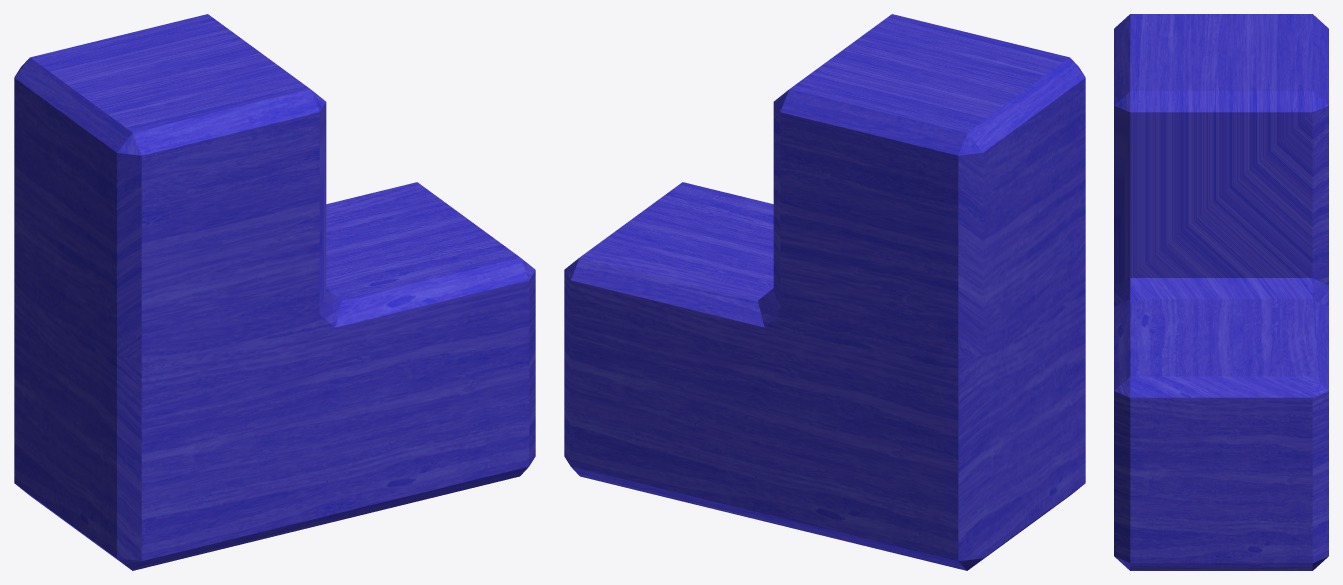
The model's file is BlockSmallL_2x2.fbx.
The picture shows the model from 3 angles, left to right: view 1: azimuth 30°, elevation 25°; view 2: azimuth 150°, elevation 25°; view 3: azimuth 270°, elevation 25°; orthographic projection. The views are drawn at different scales.
Visible parts, largest first — view 1: 2x2_L; view 2: 2x2_L; view 3: 2x2_L.
Part boxes in pixels (x1,y1,x2,y2): 2x2_L: (14, 14, 535, 570); 2x2_L: (564, 14, 1085, 570); 2x2_L: (1114, 14, 1328, 570).
Bounding box in the file's own units: 200 × 200 × 100.
